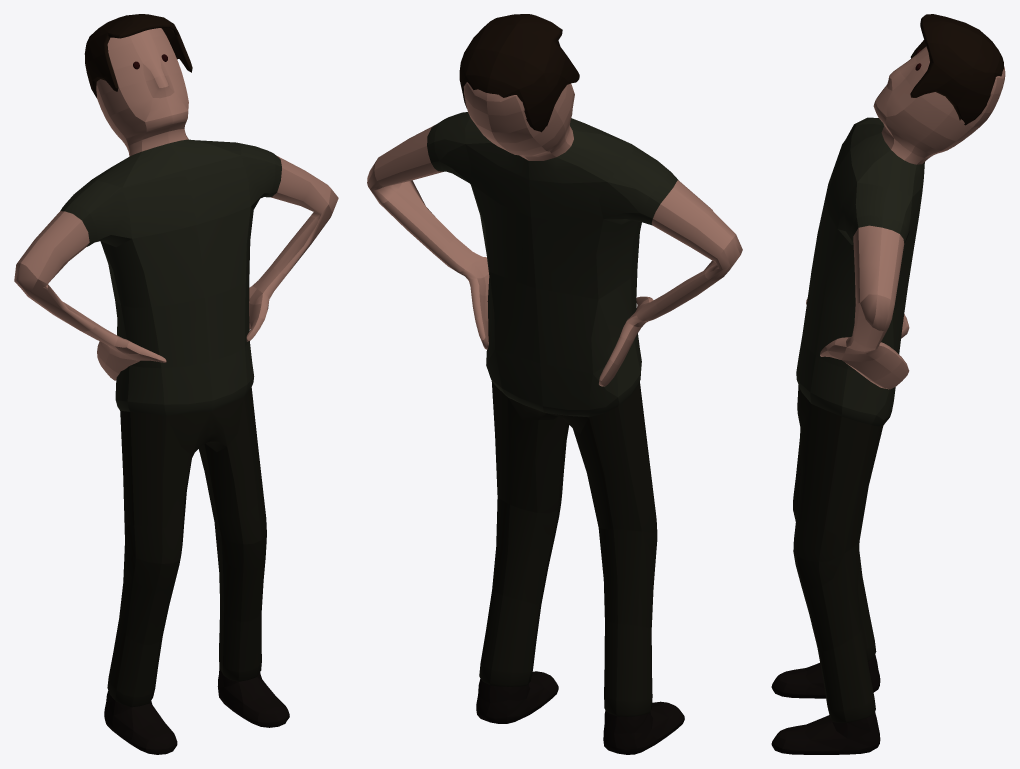
The model's file is pessoa_h_olhando.glb.
3 views of the same model, side by side, from view 1: azimuth 30°, elevation 25°; view 2: azimuth 150°, elevation 25°; view 3: azimuth 270°, elevation 25° (orthographic). The views are drawn at different scales.
Visible parts, largest first — view 1: pessoa_h_olhando; view 2: pessoa_h_olhando; view 3: pessoa_h_olhando.
Part boxes in pixels (box(x1,y1,x2,y2)): pessoa_h_olhando: box(14, 14, 338, 754); pessoa_h_olhando: box(367, 14, 742, 754); pessoa_h_olhando: box(771, 14, 1005, 754).
Size of the model in its own units: 0.888 by 1.74 by 0.5283.
1 material, 1 textured.
